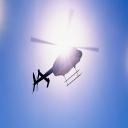helicopter: (31, 10, 101, 95)
